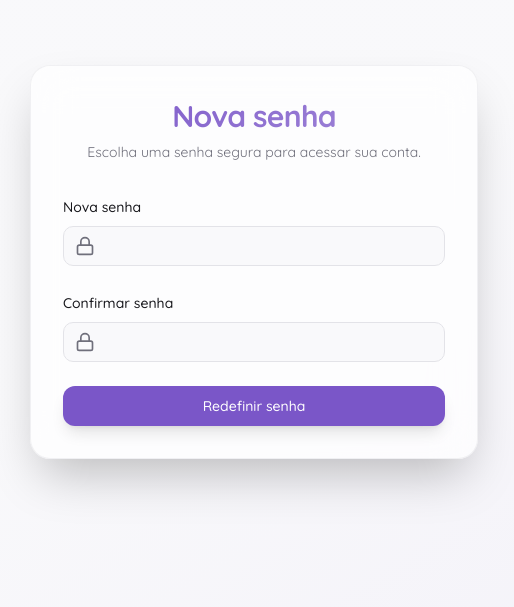
Test: ResetPassword — validação de política e redirect › mostra erro específico quando o backend rejeita (token expirado)
Type "Senha@123" into the password field labelled "Nova senha" at (254, 246), box [63,226,445,266]
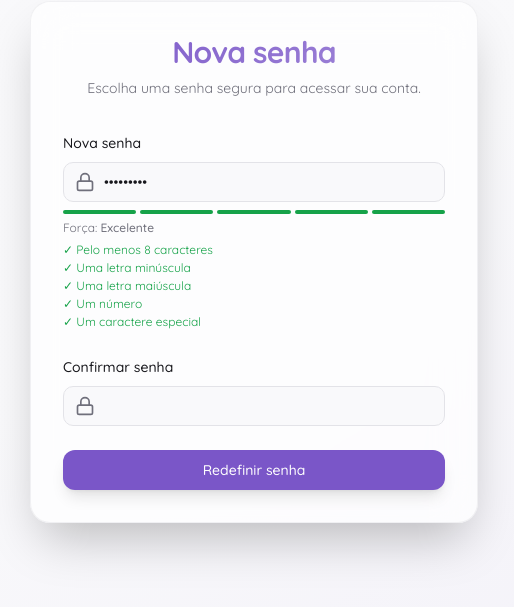
Type "Senha@123" into the password field labelled "Confirmar senha" at (254, 406), box [63,386,445,426]
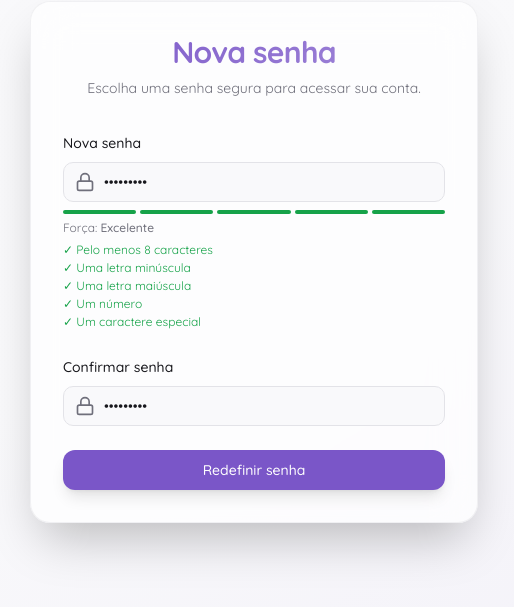
Click the button "Redefinir senha" at (254, 470), box [63,450,445,490]
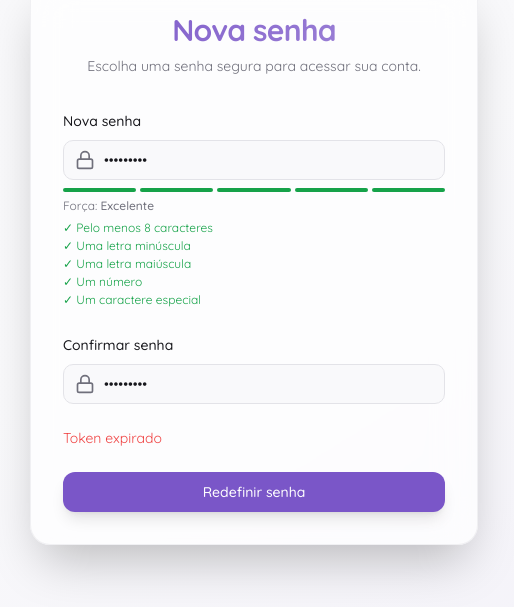
Expected: the text "Token expirado" is shown, [63,429,162,447]
